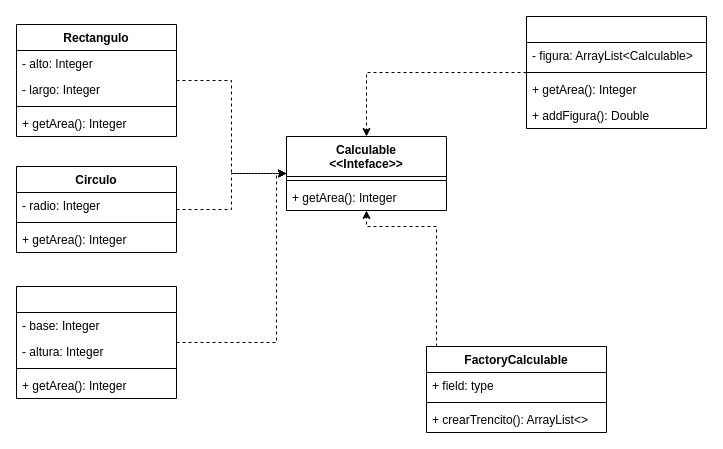
Some shapes in this 723 by 449 pixel diagram are drawn without their labels. The box of each missing label's shape, as (x1, y1, x2, y2) in pixels:
CalculableComposite: (526, 16, 706, 128)
Triangulo: (16, 286, 176, 398)
